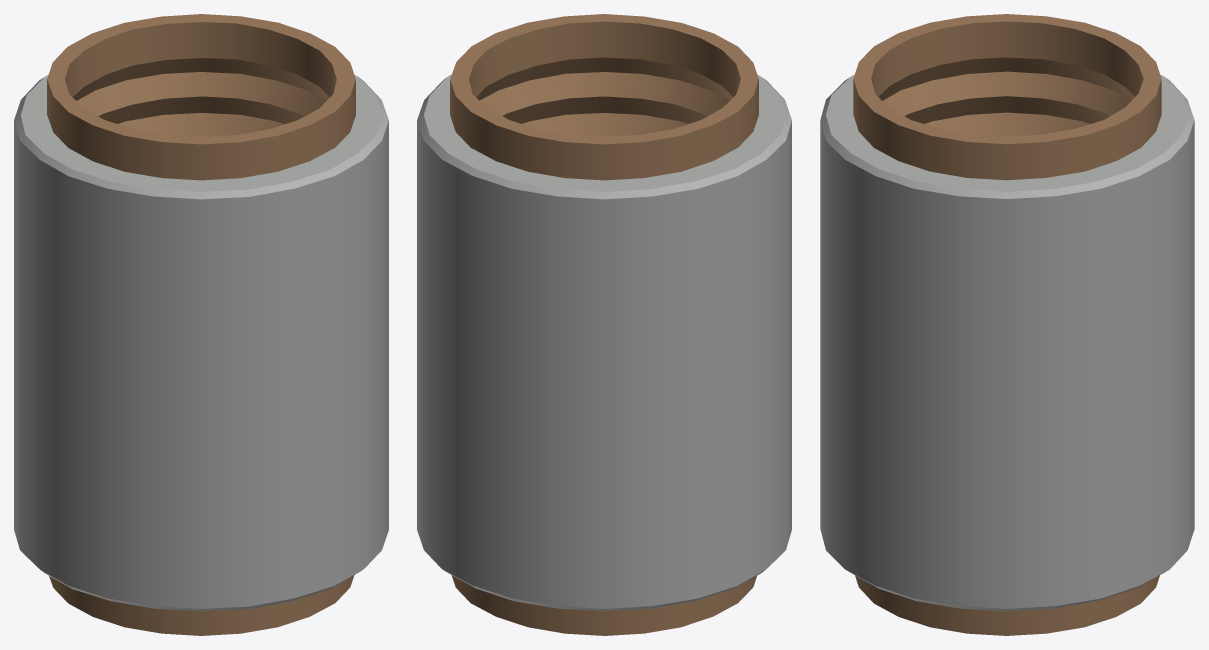
Rendered from pipes_supply__softener-yes_and_plumbing-galvanized_and_water-well_and_flowsmart-yes.glb.
3 views of the same model, side by side, from view 1: azimuth 30°, elevation 25°; view 2: azimuth 150°, elevation 25°; view 3: azimuth 270°, elevation 25° (orthographic).
Visible parts, largest first — view 1: fit_coupling_pipe_supply_softener_feed__galvanized.901; view 2: fit_coupling_pipe_supply_softener_feed__galvanized.901; view 3: fit_coupling_pipe_supply_softener_feed__galvanized.901.
Boxes of the visible parts, x1,y1,x2,y2 form: fit_coupling_pipe_supply_softener_feed__galvanized.901: (14,14,388,635); fit_coupling_pipe_supply_softener_feed__galvanized.901: (417,14,791,635); fit_coupling_pipe_supply_softener_feed__galvanized.901: (820,14,1194,635).
Size of the model in its own units: 0.0333 by 0.0483 by 0.0333.
